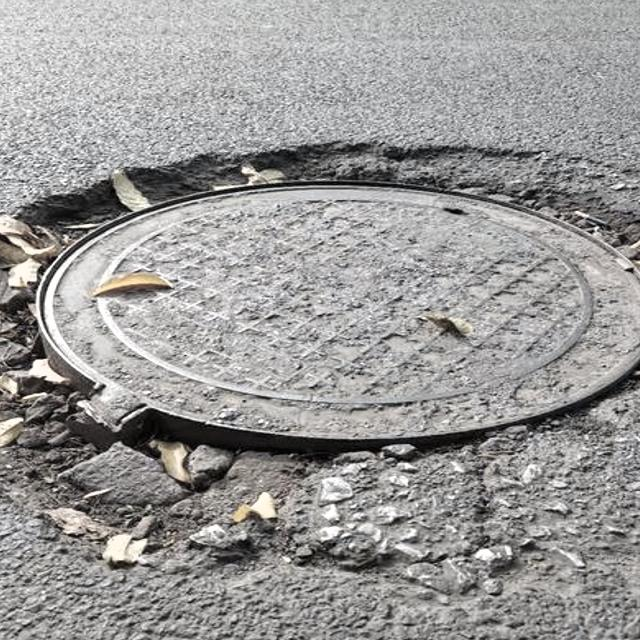circle: (0, 140, 640, 577)
